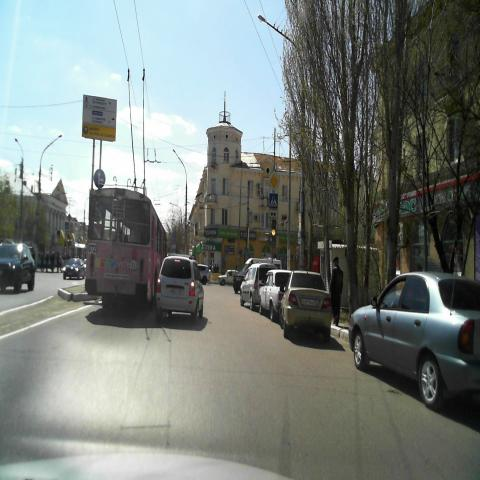4_1_4: (96, 170, 104, 186)
